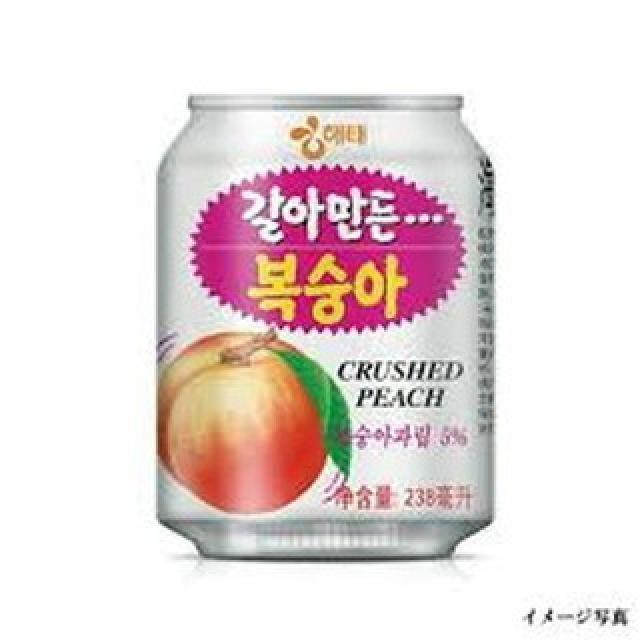can: (141, 87, 510, 564)
